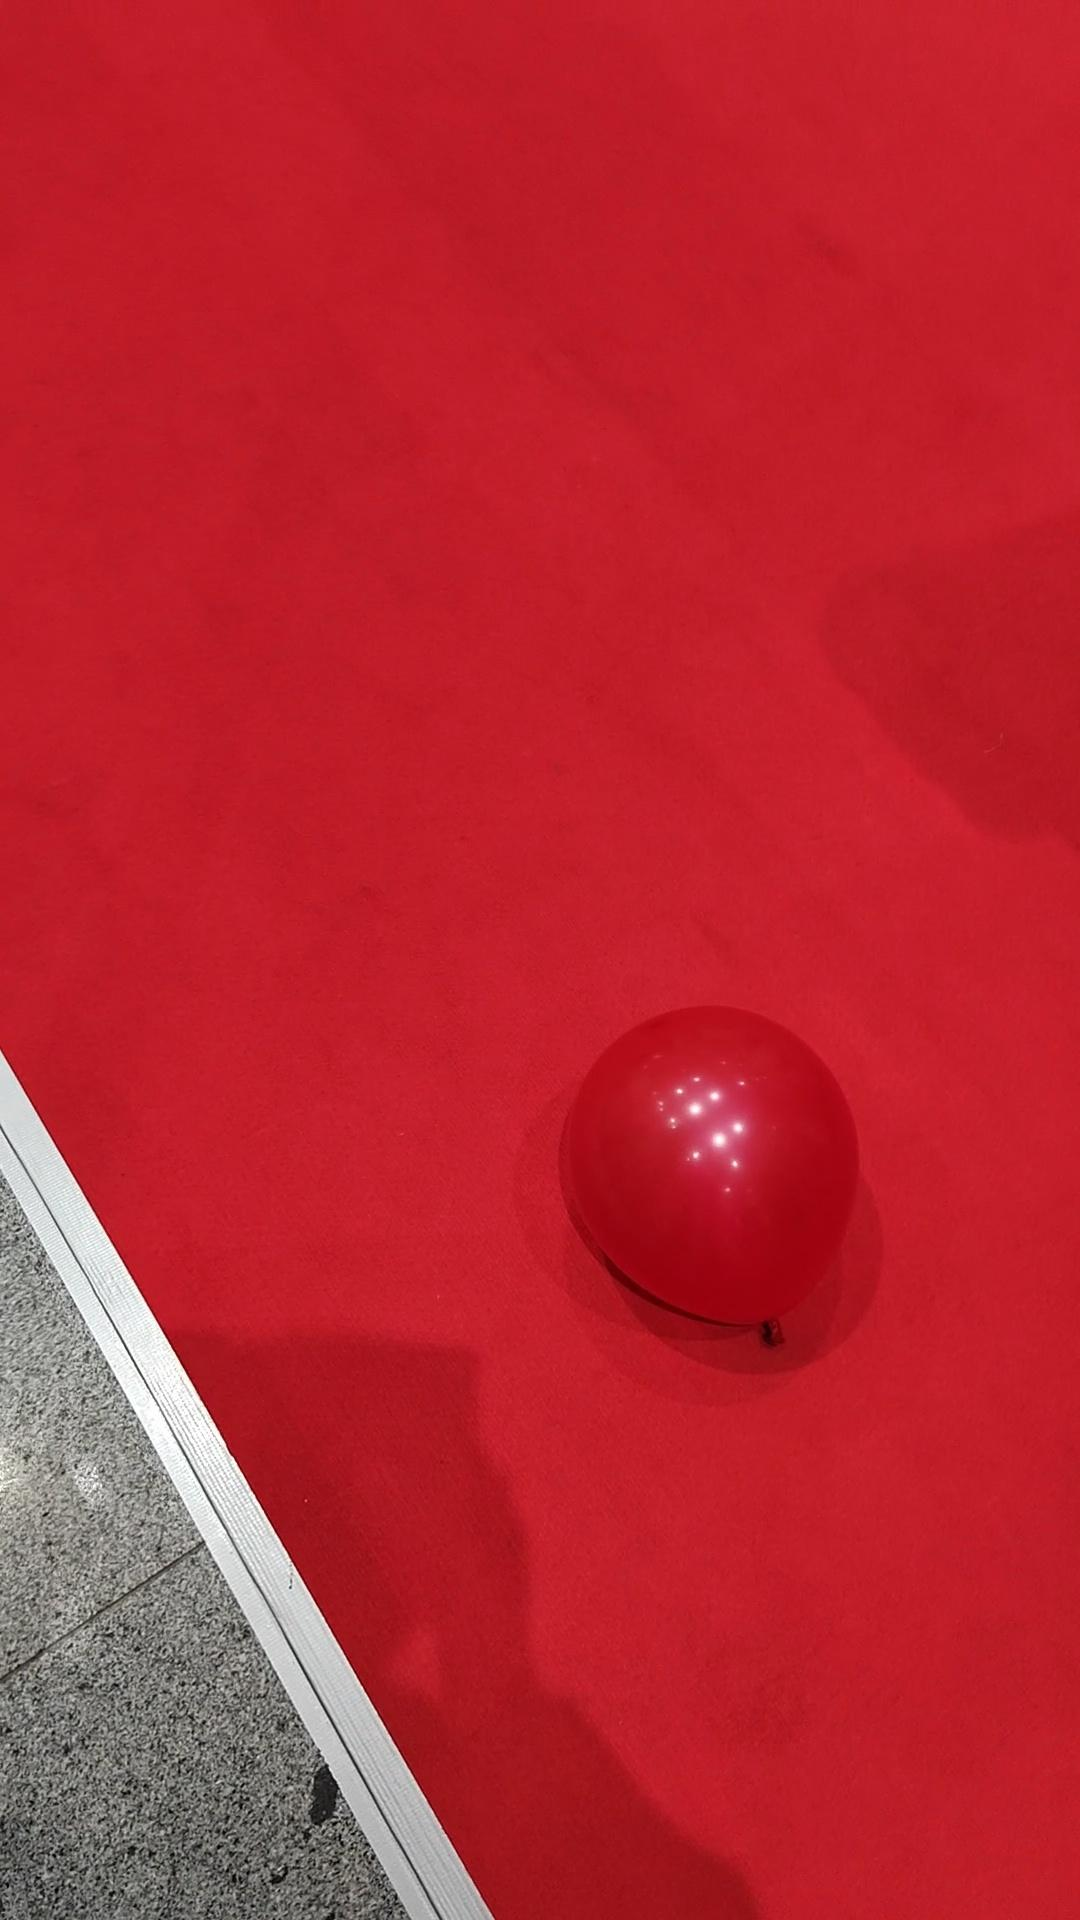red: (564, 1005, 858, 1335)
